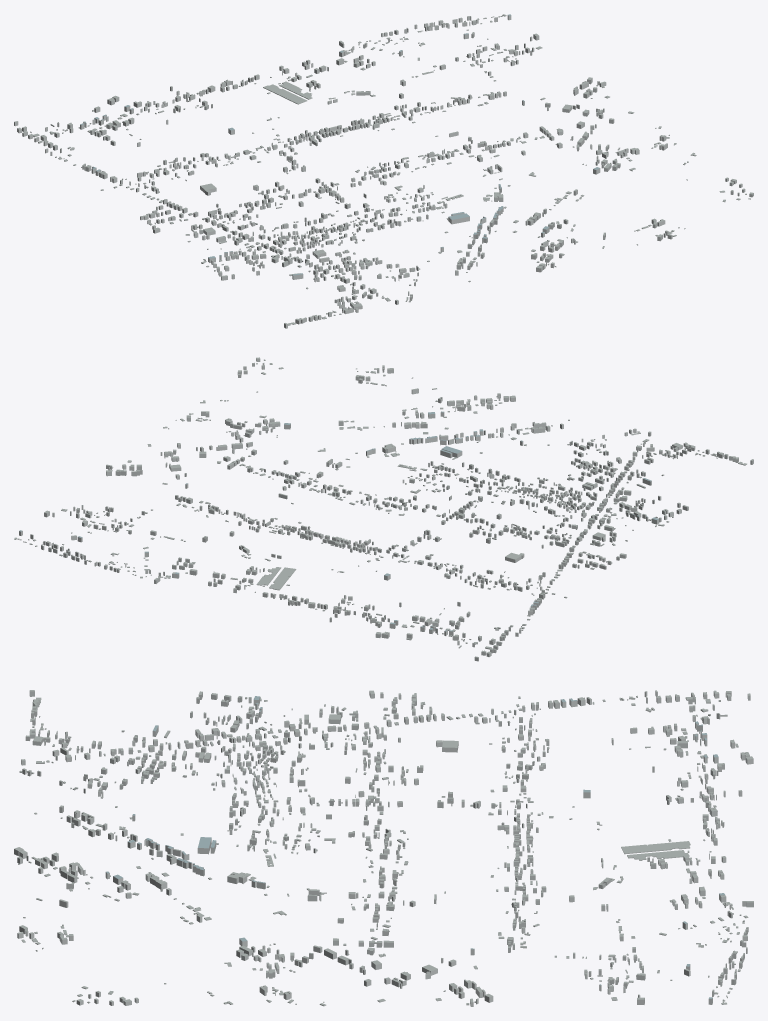
Rendered from far.glb.
The picture shows the model from 3 angles, top to bottom: view 1: azimuth 30°, elevation 25°; view 2: azimuth 150°, elevation 25°; view 3: azimuth 270°, elevation 25°; orthographic projection. The views are drawn at different scales.
Bounding box in the file's own units: 2109 × 20.6 × 2113.
